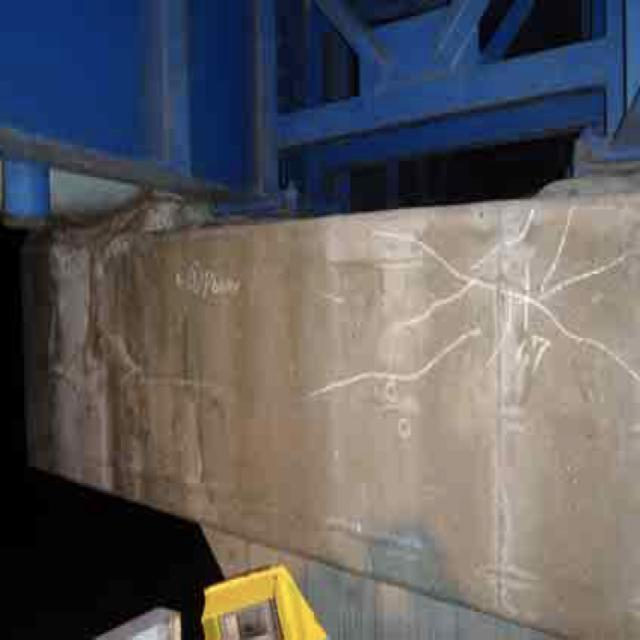crack: (348, 212, 638, 424)
